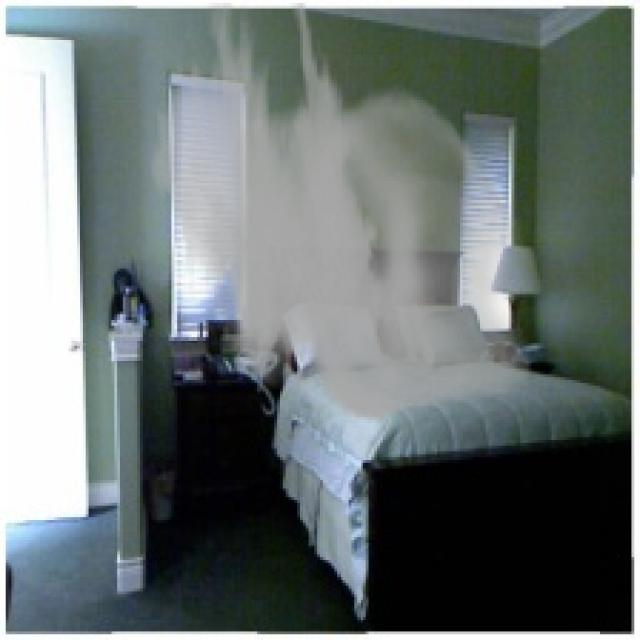smoke: (146, 3, 531, 423)
